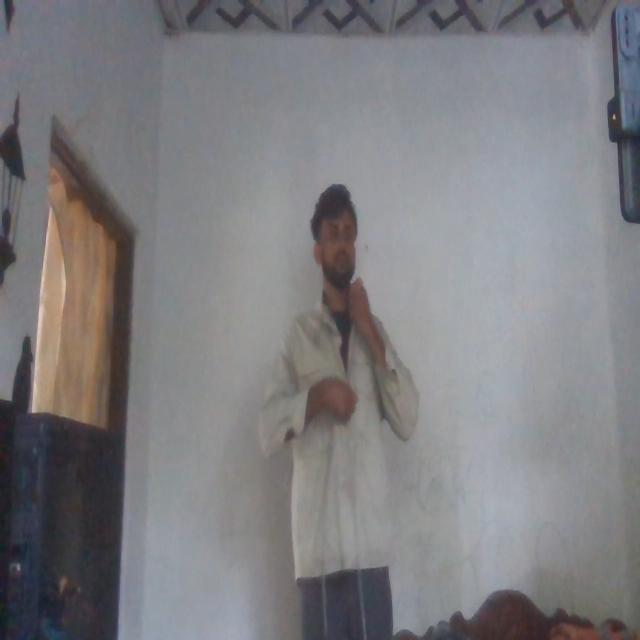Jacket_Wearer: (276, 292, 414, 578)
Person: (271, 185, 421, 640)
